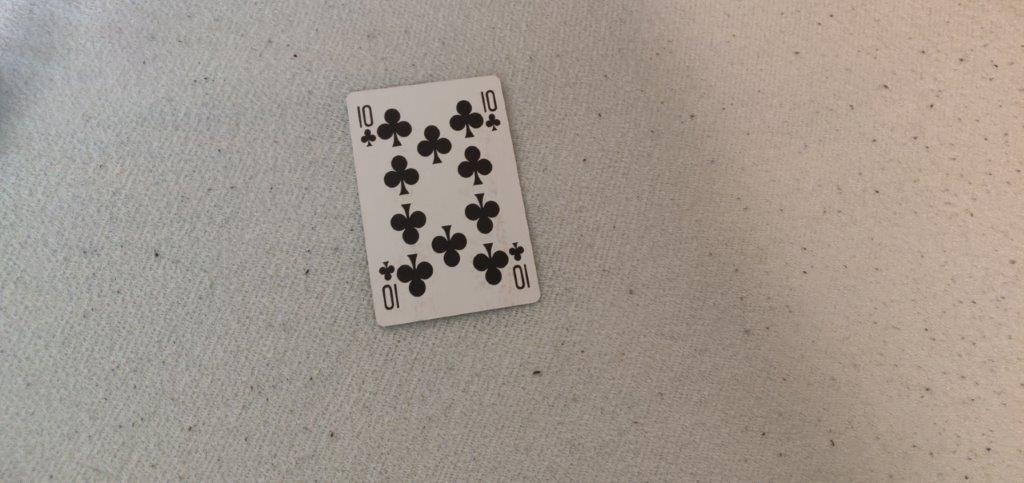10C: (349, 97, 384, 149), (477, 86, 507, 135)
